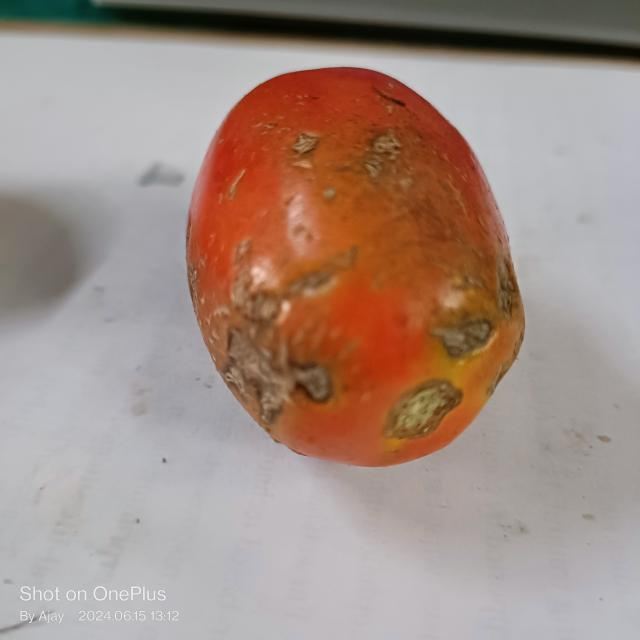Bacterial_Spot: (207, 245, 344, 423), (431, 310, 494, 355), (357, 122, 406, 176), (288, 131, 324, 161)
